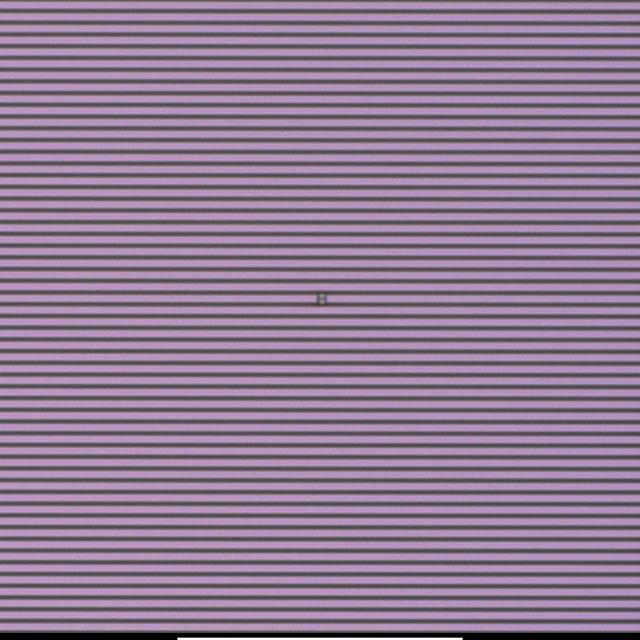03_intrusion: (314, 289, 336, 313)
